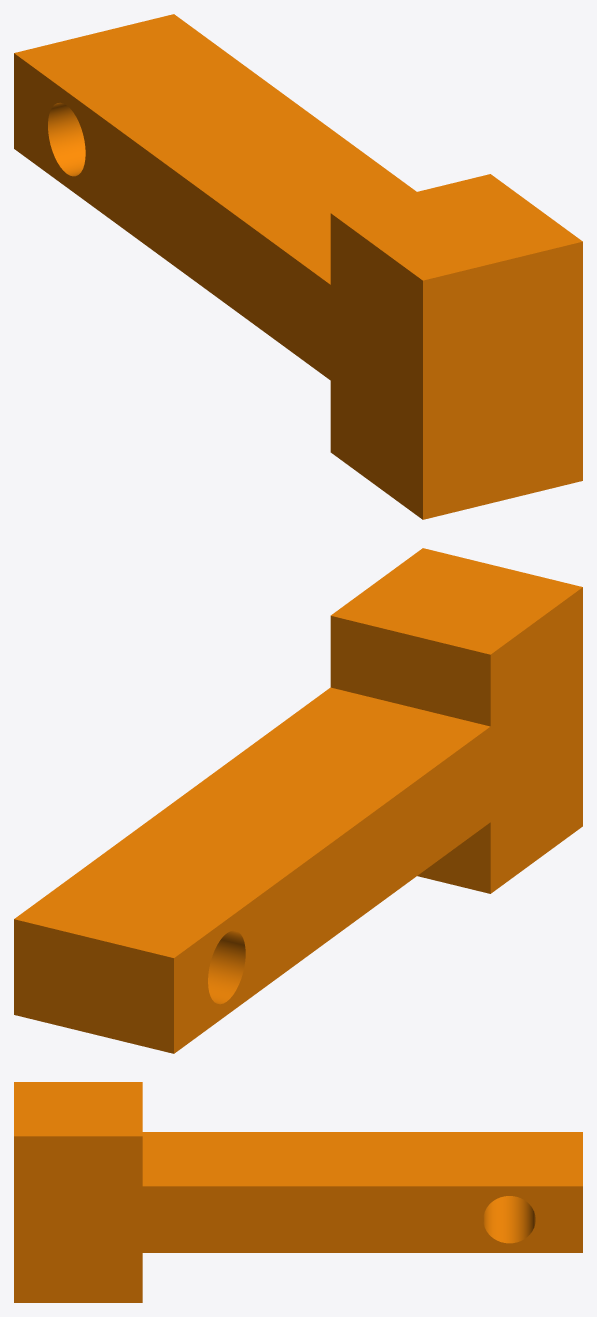
3 renders of one model, top to bottom at view 1: azimuth 30°, elevation 25°; view 2: azimuth 150°, elevation 25°; view 3: azimuth 270°, elevation 25°, orthographic. The views are drawn at different scales.
Parts seen in each view (by area): view 1: Part 16; view 2: Part 16; view 3: Part 16.
Boxes of the visible parts, x1,y1,x2,y2 form: Part 16: (14,14,582,519); Part 16: (14,548,582,1053); Part 16: (14,1082,582,1302).
Bounding box in the file's own units: 0.07 × 0.1 × 0.3098.
